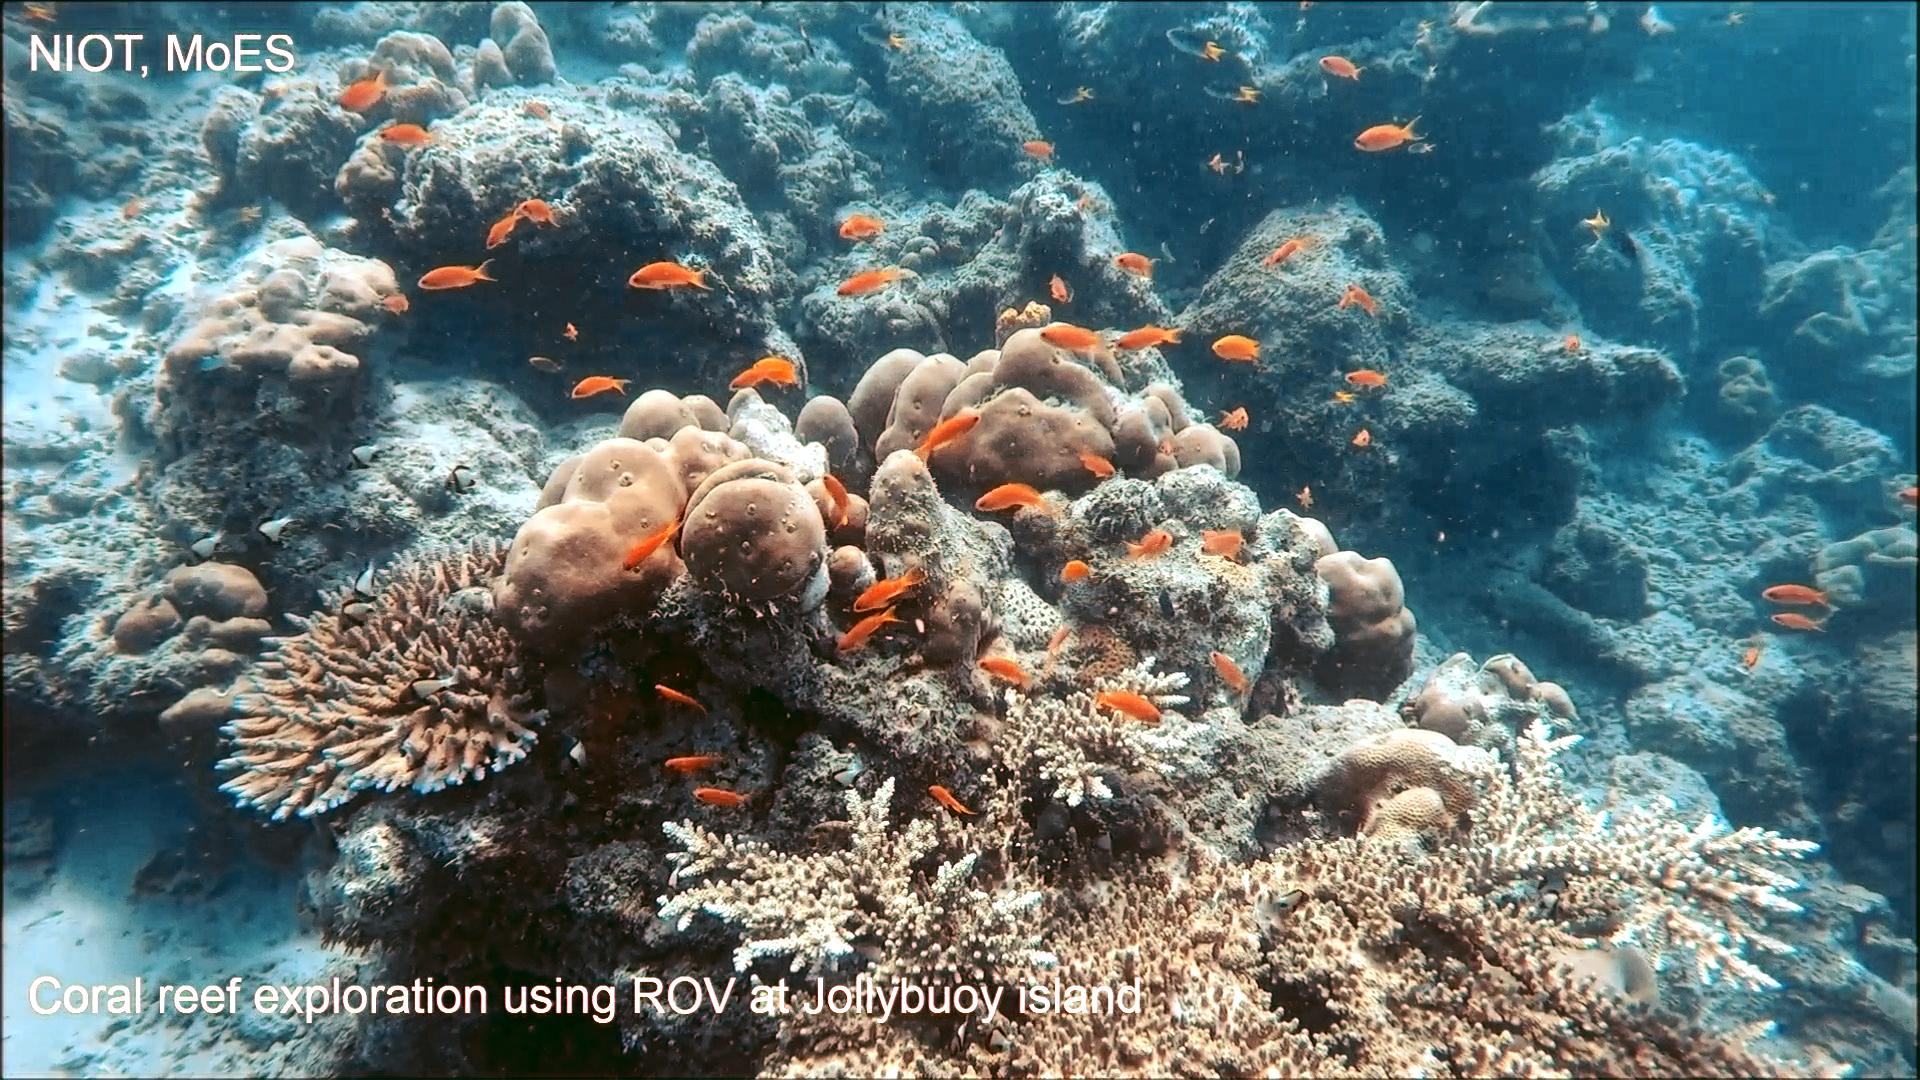Porites-Porites pukoensis: (487, 380, 840, 662), (829, 316, 1246, 498)
